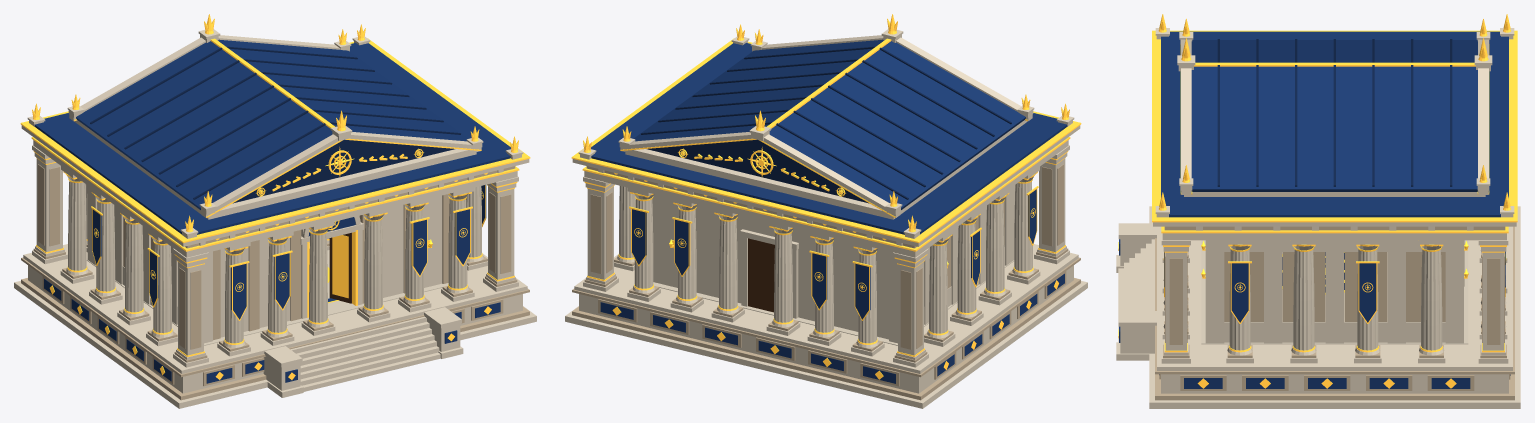
File: temple.glb
3 renders of one model, left to right at view 1: azimuth 30°, elevation 25°; view 2: azimuth 150°, elevation 25°; view 3: azimuth 270°, elevation 25°, orthographic. The views are drawn at different scales.
Visible parts, largest first — view 1: Temple_Marble_Cream, Temple_Royal_Blue, Temple_Marble_Dark, Temple_Gold_Trim, Temple_Royal_Blue_Dark, Temple_Floor_Marble, Temple_Bronze_Wood; view 2: Temple_Marble_Cream, Temple_Royal_Blue, Temple_Marble_Dark, Temple_Gold_Trim, Temple_Royal_Blue_Dark, Temple_Bronze_Wood, Temple_Floor_Marble; view 3: Temple_Royal_Blue, Temple_Marble_Cream, Temple_Marble_Dark, Temple_Gold_Trim, Temple_Royal_Blue_Dark, Temple_Floor_Marble.
Boxes of the visible parts, x1,y1,x2,y2 form: Temple_Marble_Cream: (14, 29, 536, 408); Temple_Royal_Blue: (34, 39, 510, 383); Temple_Marble_Dark: (21, 164, 529, 400); Temple_Gold_Trim: (20, 14, 530, 379); Temple_Royal_Blue_Dark: (90, 46, 460, 203); Temple_Floor_Marble: (86, 243, 448, 345); Temple_Bronze_Wood: (329, 232, 351, 303); Temple_Marble_Cream: (565, 29, 1087, 408); Temple_Royal_Blue: (591, 39, 1067, 383); Temple_Marble_Dark: (572, 164, 1080, 400); Temple_Gold_Trim: (571, 14, 1081, 379); Temple_Royal_Blue_Dark: (641, 46, 1011, 203); Temple_Bronze_Wood: (748, 238, 774, 312); Temple_Floor_Marble: (653, 260, 1014, 345); Temple_Royal_Blue: (1119, 31, 1510, 388); Temple_Marble_Cream: (1116, 28, 1520, 408); Temple_Marble_Dark: (1155, 226, 1514, 400); Temple_Gold_Trim: (1118, 14, 1517, 388); Temple_Royal_Blue_Dark: (1217, 39, 1452, 292); Temple_Floor_Marble: (1201, 240, 1468, 344).
Bounding box in the file's own units: 24 × 15.54 × 20.9.
